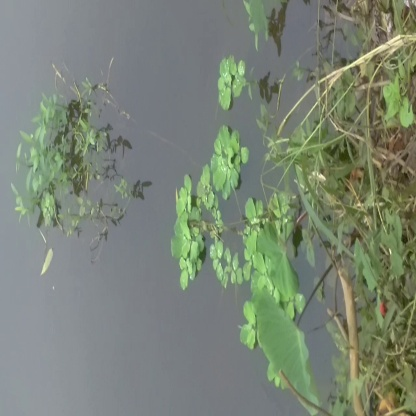leaf: (215, 54, 252, 111)
